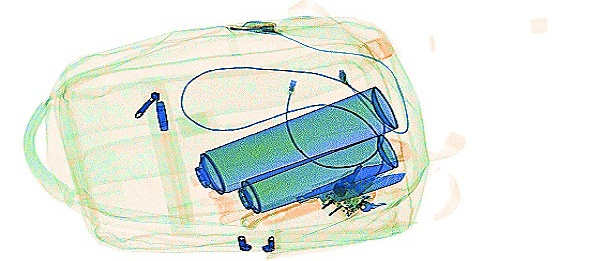knife: (237, 170, 406, 231)
pressure: (188, 84, 401, 195), (205, 134, 397, 224)
